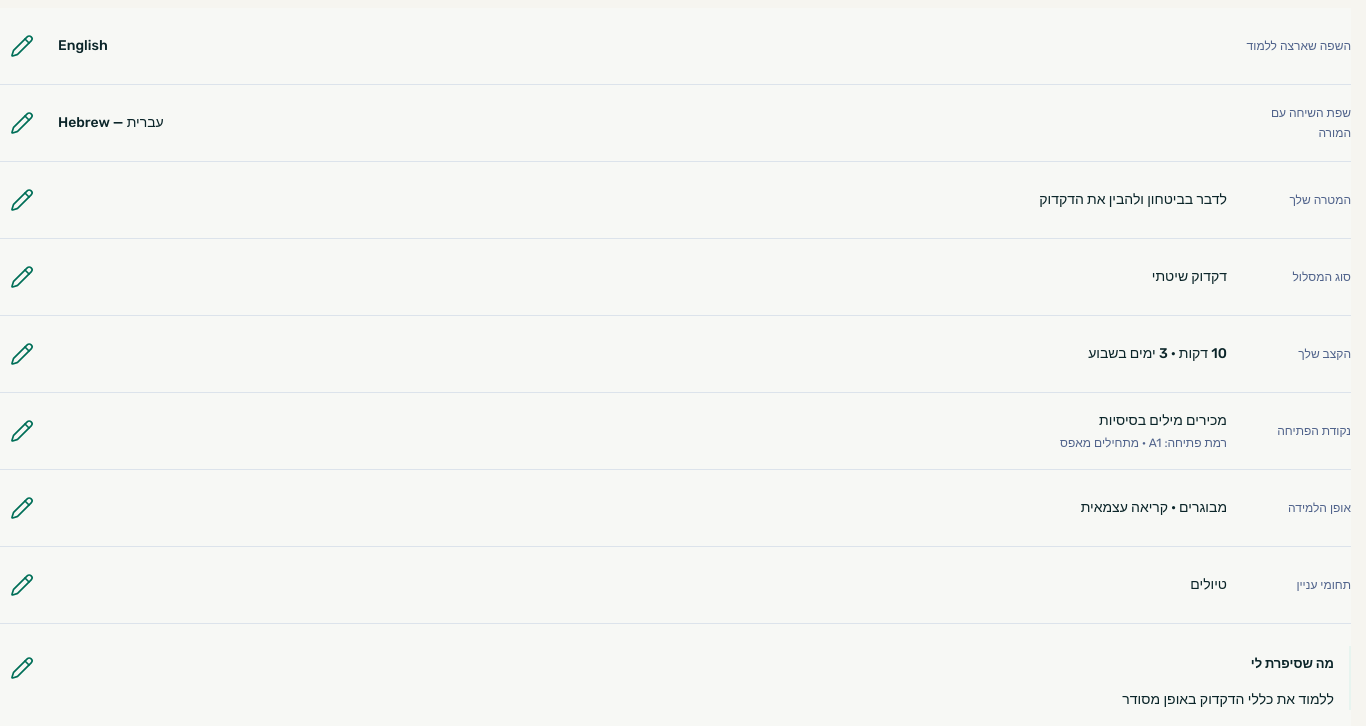
Test: inline interview preference review › saves נקודת הפתיחה without replacing other preferences
Click the button named "עריכת נקודת הפתיחה" at (22, 431), box [0, 409, 44, 453]
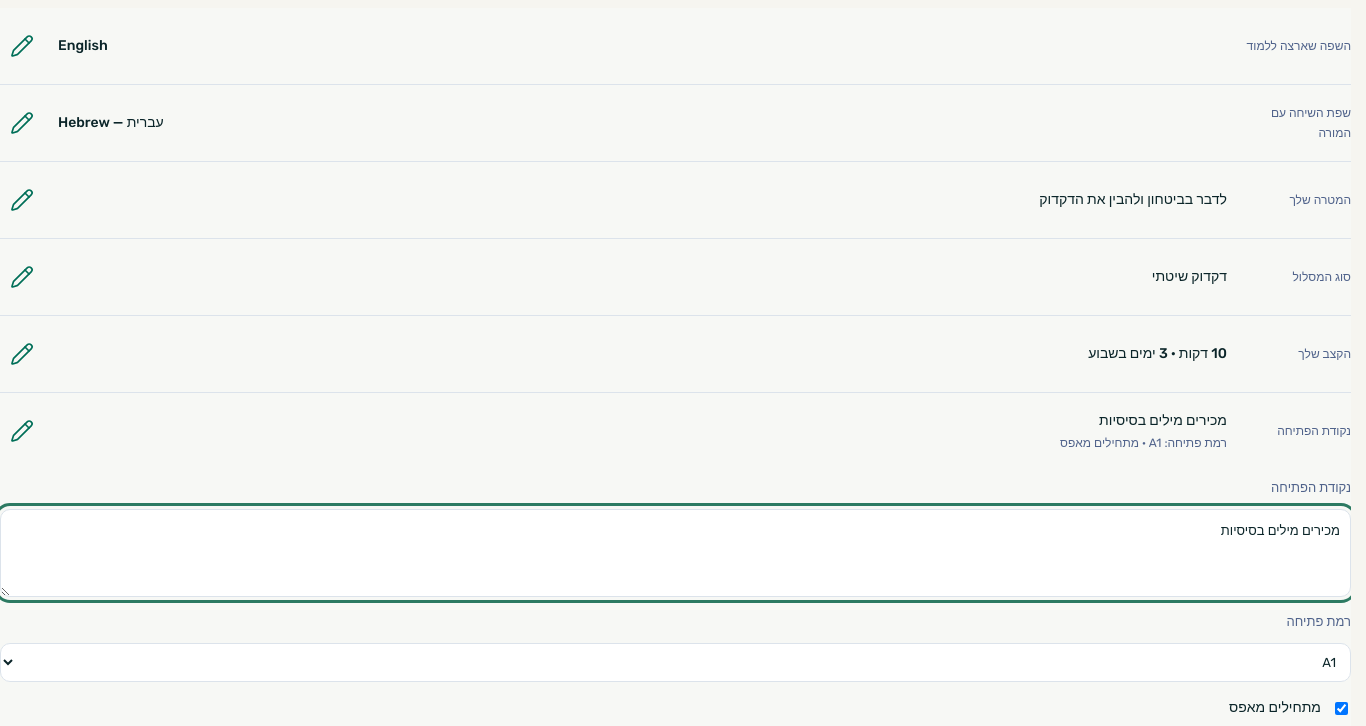
Replace the text in the text box with "למדתי בעבר" at (676, 553), box [0, 509, 1351, 597]
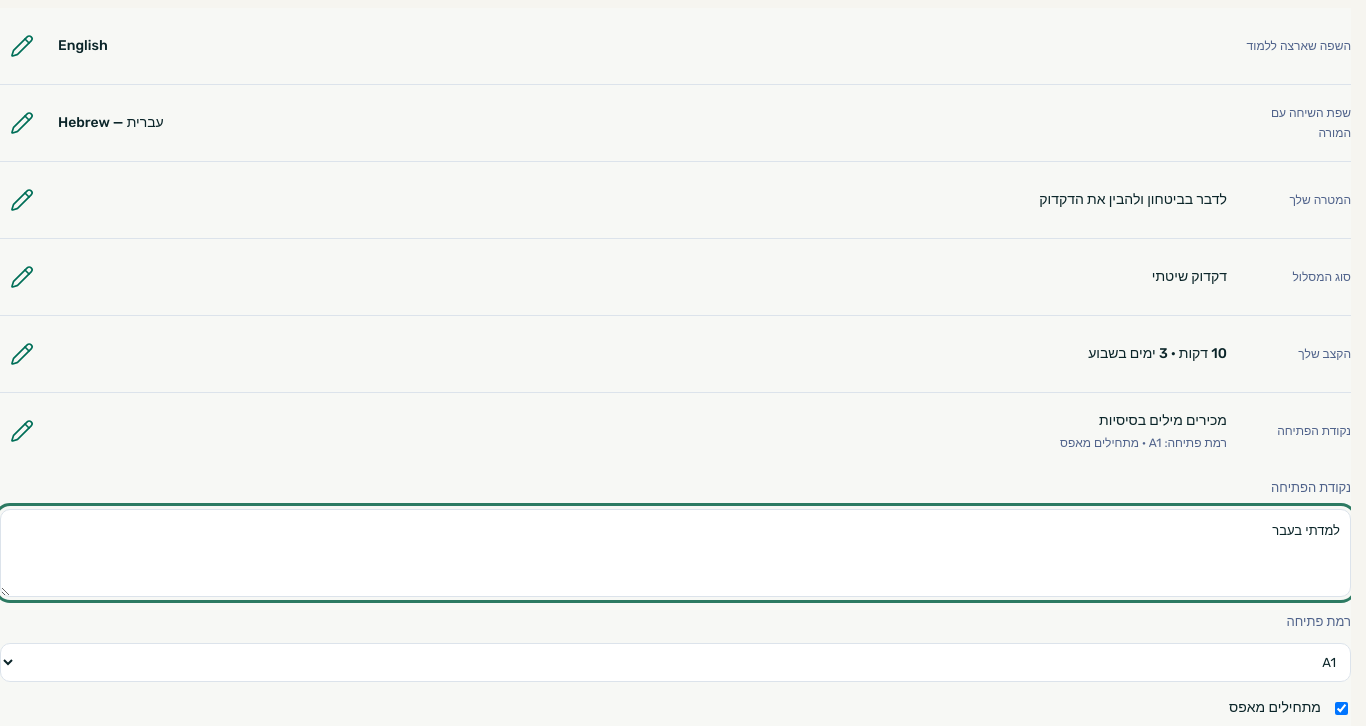
Select "B1" in the dropdown labelled "רמת פתיחה" at (676, 663), box [0, 643, 1351, 682]
(page scrolled)
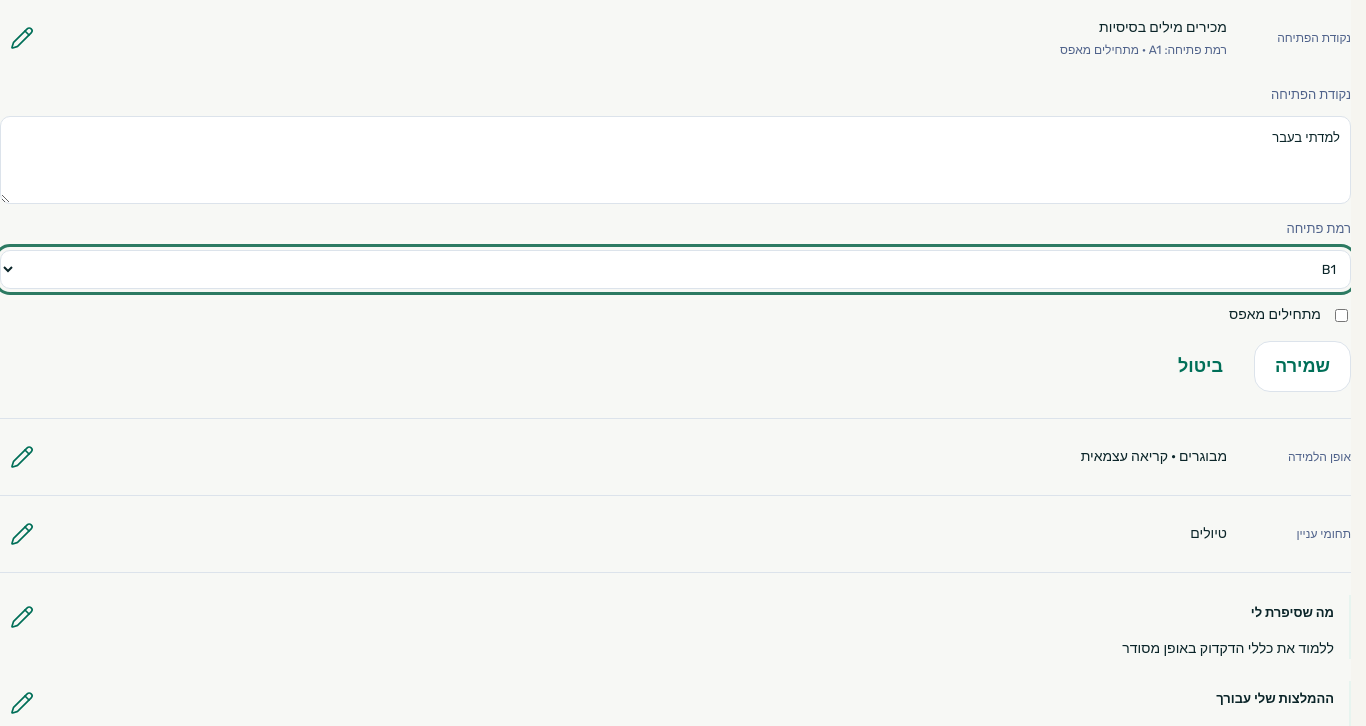
Click the button "שמירה" at (1302, 367), box [1254, 341, 1351, 392]
(page scrolled)
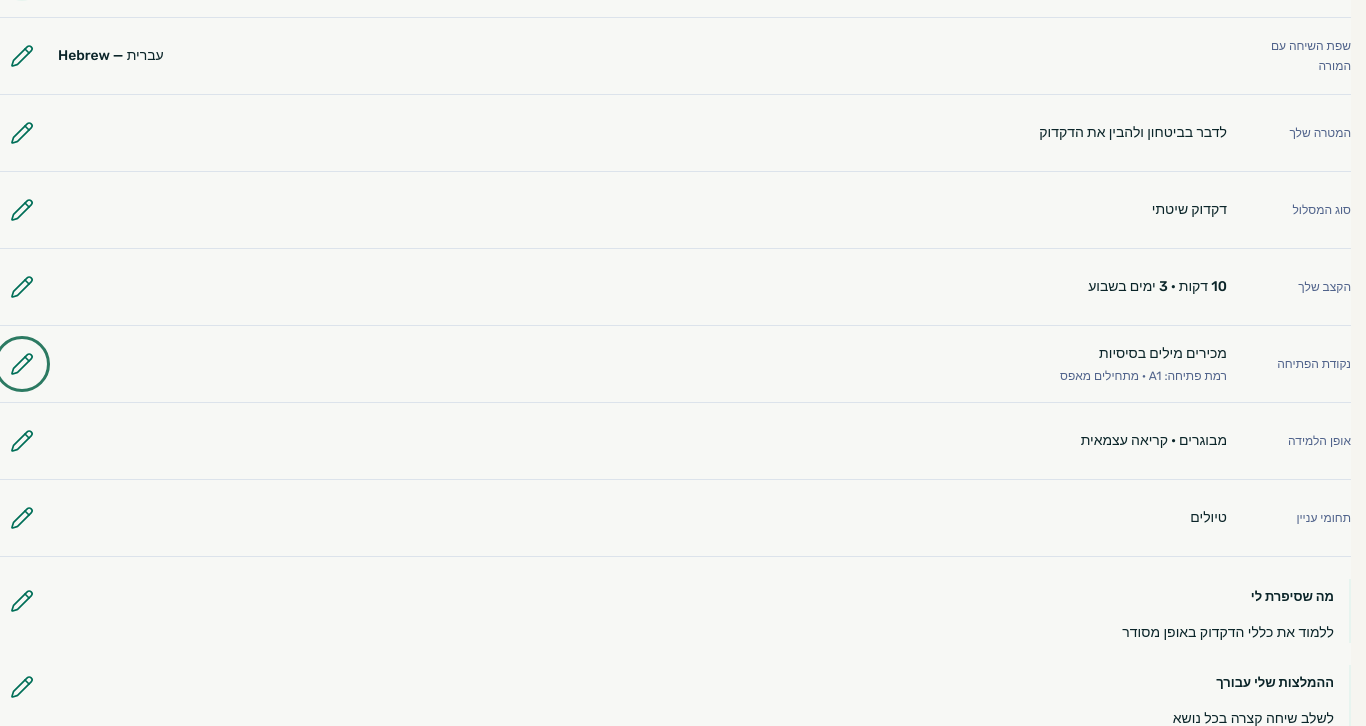
expect the form is gone: met
